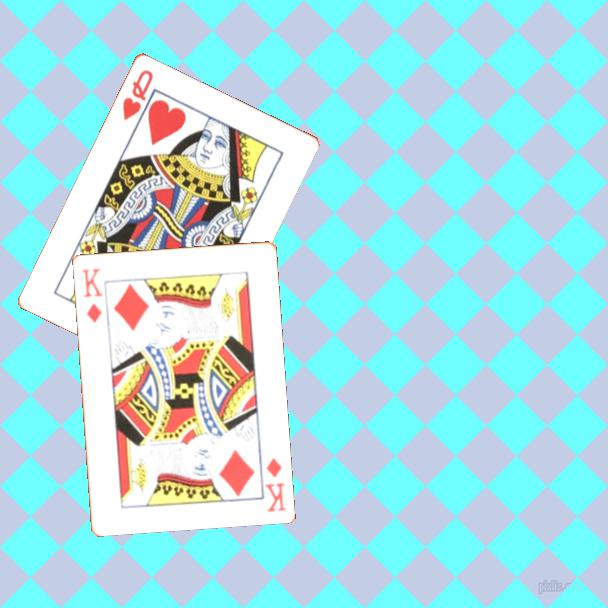d13: (261, 454, 289, 515), (78, 264, 105, 326)
h12: (119, 66, 156, 123)
